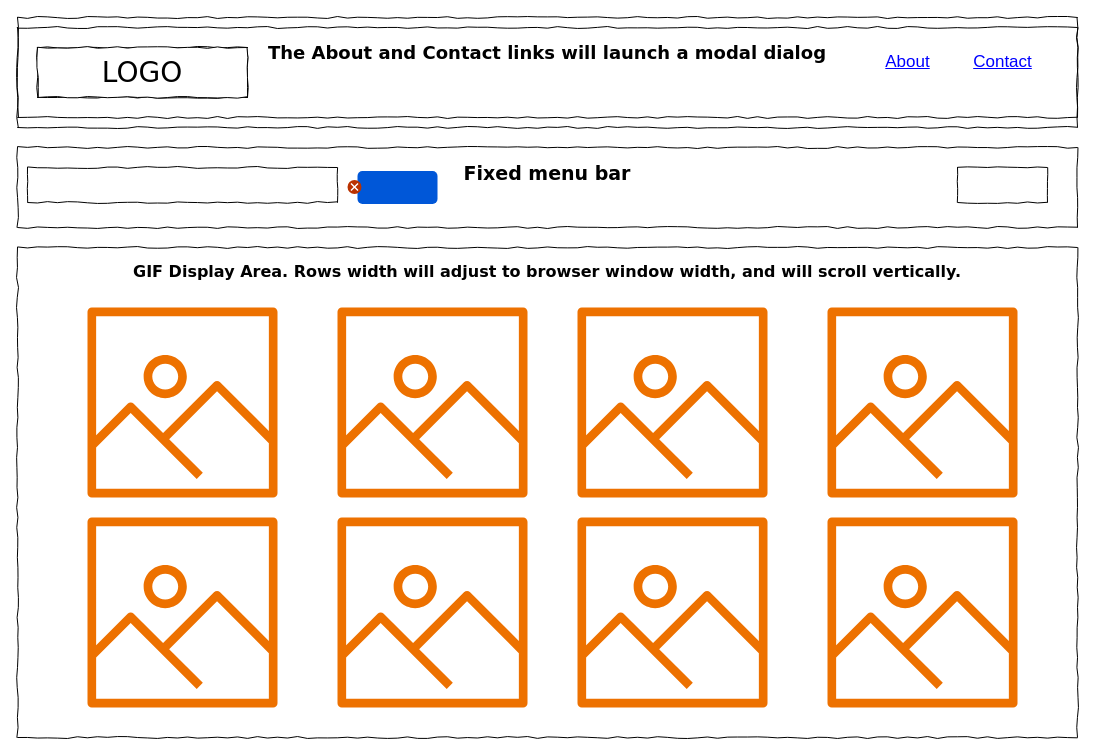
The diagram is 1095 pixels wide and 755 high, and some of its shapes have lost their labels. The shapes that lost their labels are listed below. From the top down, each one's centre as x and y in pixels, then its label:
the point at 182,184: Search query
the point at 397,187: Submit
the point at 1002,184: # of Gifs
